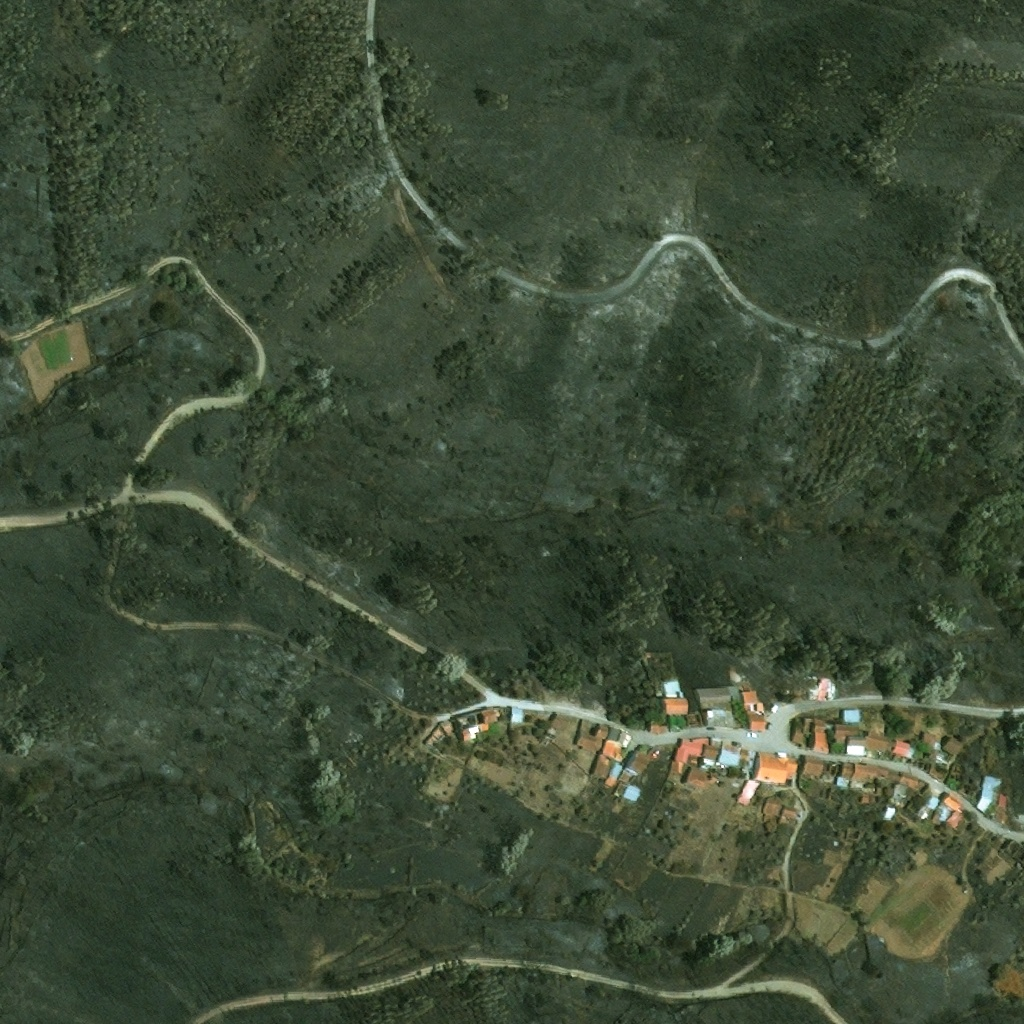0 no-damage: (750, 751, 799, 786), (667, 736, 709, 775), (570, 717, 613, 754), (915, 793, 954, 827), (790, 716, 828, 750), (848, 762, 888, 794), (600, 725, 633, 763), (711, 737, 750, 768), (586, 755, 614, 785), (695, 686, 739, 705), (975, 776, 997, 814), (735, 777, 761, 807), (917, 731, 941, 762), (626, 747, 651, 775), (684, 764, 712, 789), (833, 760, 855, 789), (701, 709, 734, 728), (603, 761, 624, 790), (864, 729, 889, 752), (761, 797, 782, 822), (834, 722, 859, 743), (742, 691, 764, 713), (892, 738, 915, 759), (939, 791, 962, 811), (803, 756, 824, 777), (844, 734, 864, 756), (898, 771, 921, 790), (623, 782, 643, 803), (662, 698, 688, 714), (942, 735, 961, 755), (944, 810, 963, 830), (550, 713, 570, 731), (662, 681, 682, 698), (701, 742, 719, 760), (649, 719, 670, 733), (928, 764, 946, 780), (746, 714, 765, 729), (509, 706, 524, 724), (889, 783, 903, 802), (881, 806, 896, 822), (841, 709, 858, 723), (780, 806, 797, 819), (619, 770, 631, 783), (996, 794, 1007, 808), (703, 756, 717, 766), (956, 803, 964, 816), (861, 796, 870, 804)
2 major-damage: (454, 706, 503, 742), (422, 719, 458, 751)
3 destroyed: (808, 674, 835, 698), (950, 765, 958, 777), (994, 835, 1004, 844)
4 un-classified: (434, 763, 464, 785)
